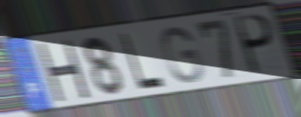7: (193, 17, 235, 81)
8: (81, 34, 126, 97)
G: (159, 25, 204, 85)
H: (34, 39, 92, 103)
L: (118, 31, 167, 92)
P: (233, 12, 277, 77)
